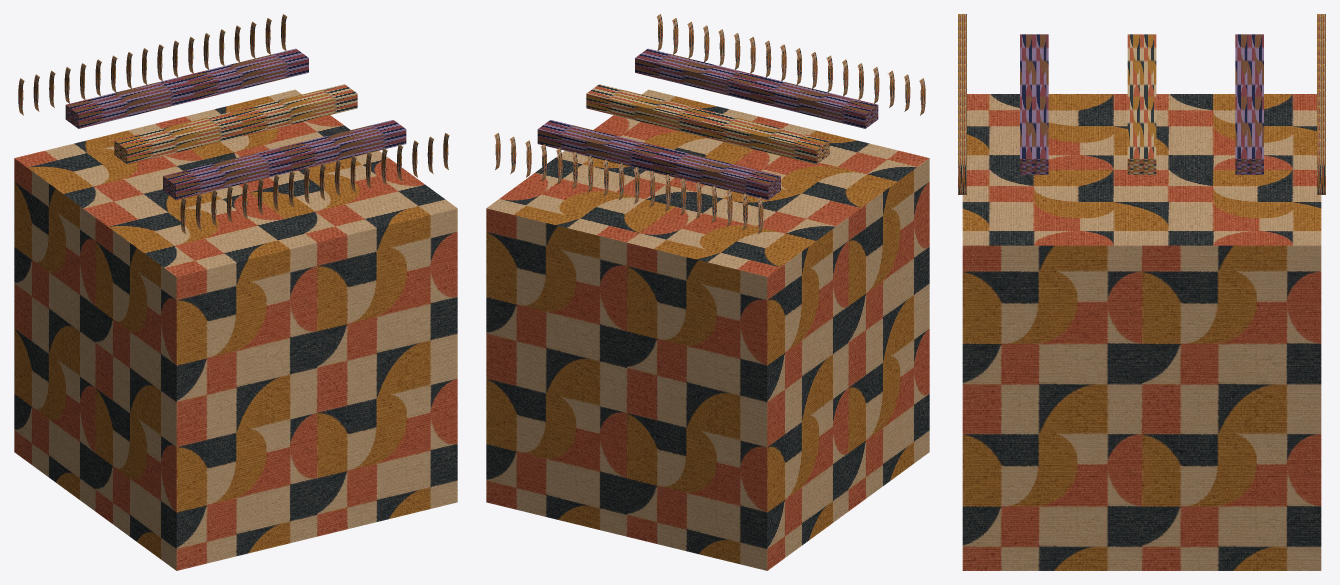
The model's file is rug.gltf.
The picture shows the model from 3 angles, left to right: view 1: azimuth 30°, elevation 25°; view 2: azimuth 150°, elevation 25°; view 3: azimuth 270°, elevation 25°; orthographic projection. The views are drawn at different scales.
Parts seen in each view (by area): view 1: body, patternB, patternA, patternC; view 2: body, patternB, patternC, patternA; view 3: body, patternB, patternA, patternC.
Boxes of the visible parts, x1,y1,x2,y2 form: body: (14, 89, 457, 570); patternB: (114, 84, 357, 164); patternA: (65, 48, 308, 128); patternC: (163, 120, 406, 199); body: (486, 89, 929, 570); patternB: (586, 84, 829, 164); patternC: (635, 48, 878, 128); patternA: (537, 120, 780, 199); body: (962, 94, 1321, 570); patternB: (1127, 34, 1156, 174); patternA: (1235, 34, 1263, 174); patternC: (1020, 34, 1048, 174).
Size of the model in its own units: 1 by 1.26 by 1.03.
Materials: 3 (3 with a texture image).
